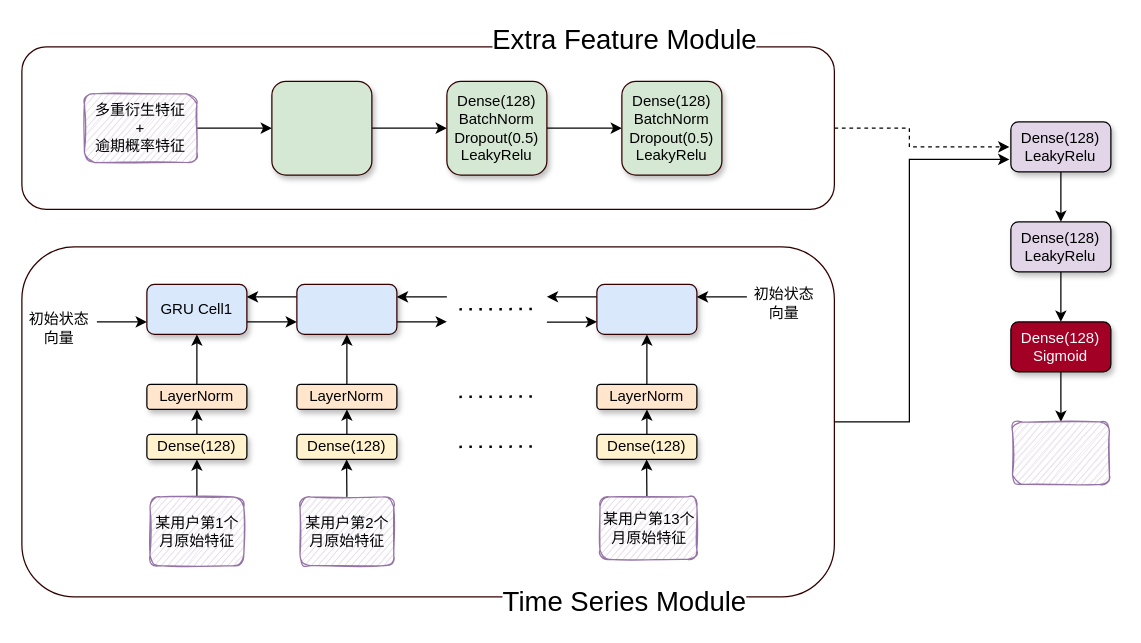
Image size: 1141x643. Some labels were removed from this diagram. The centre of each missing label's shape, as x and y in pixels:
"Dense(128) BatchNorm LeakyRelu" belongs at (322,129).
"GRU Cell13" belongs at (647,310).
"GRU Cell2" belongs at (347,310).
"该用户的 逾期结果" belongs at (1060,452).
